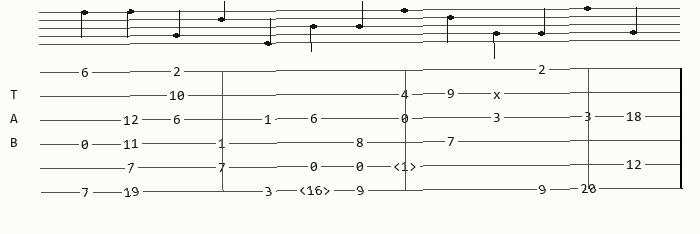0: (81, 136, 93, 149), (310, 160, 322, 173), (356, 160, 368, 173), (401, 112, 413, 125)
1: (218, 136, 230, 149), (264, 112, 276, 125)
10: (169, 88, 189, 101)
11: (123, 136, 143, 149)
12: (123, 112, 143, 125), (626, 160, 646, 173)
18: (626, 112, 646, 125)
19: (123, 184, 143, 197)
2: (173, 64, 185, 77), (538, 64, 550, 77)
20: (580, 184, 600, 197)
3: (264, 184, 276, 197), (493, 112, 505, 125), (584, 112, 596, 125)
4: (401, 88, 413, 101)
6: (81, 64, 93, 77), (173, 112, 185, 125), (310, 112, 322, 125)
7: (81, 184, 93, 197), (127, 160, 139, 173), (218, 160, 230, 173), (447, 136, 459, 149)
8: (356, 136, 368, 149)
9: (356, 184, 368, 197), (447, 88, 459, 101), (538, 184, 550, 197)
harmonic: (298, 184, 334, 197), (393, 160, 421, 173)
x: (493, 89, 505, 100)
